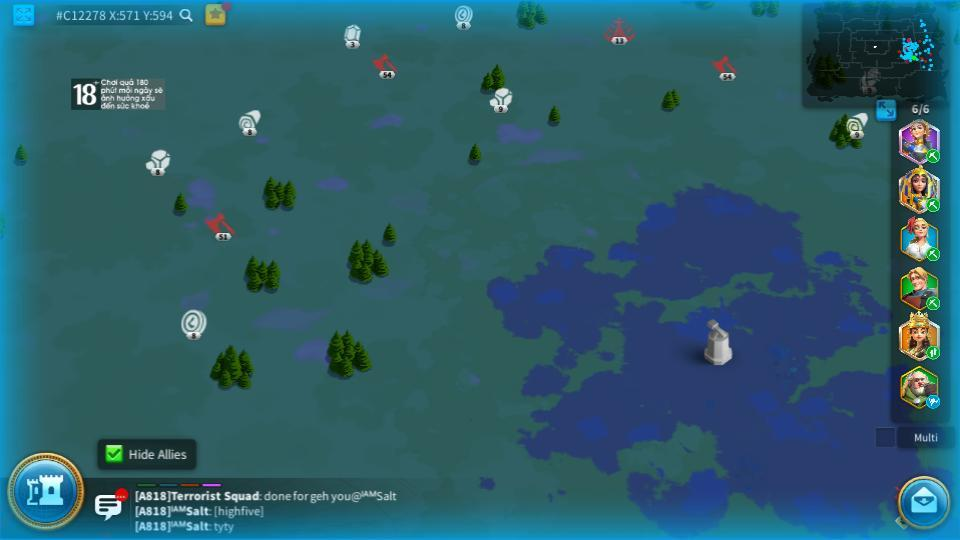gem-z-out: (342, 24, 363, 48)
march_farming: (924, 197, 939, 212), (924, 149, 939, 162)
march_idle: (925, 396, 941, 408)
march_marching: (924, 345, 939, 359), (925, 298, 941, 309)
